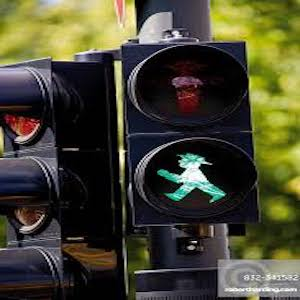green: (147, 145, 227, 203)
